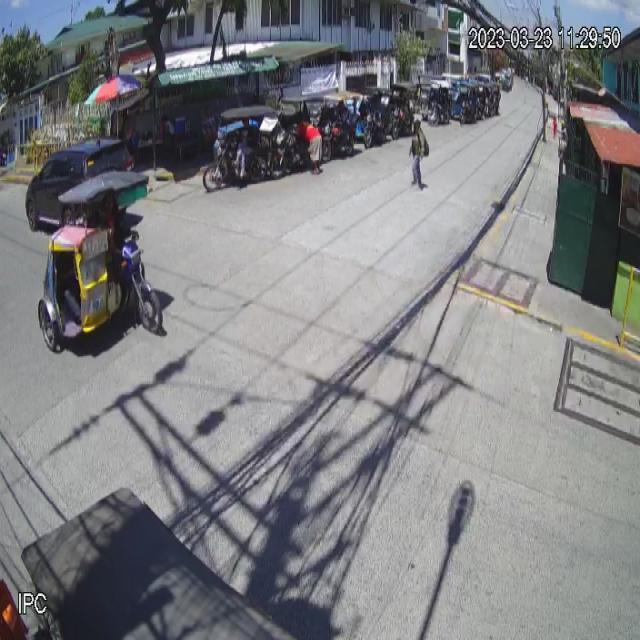Tricycle: (36, 168, 164, 352)
